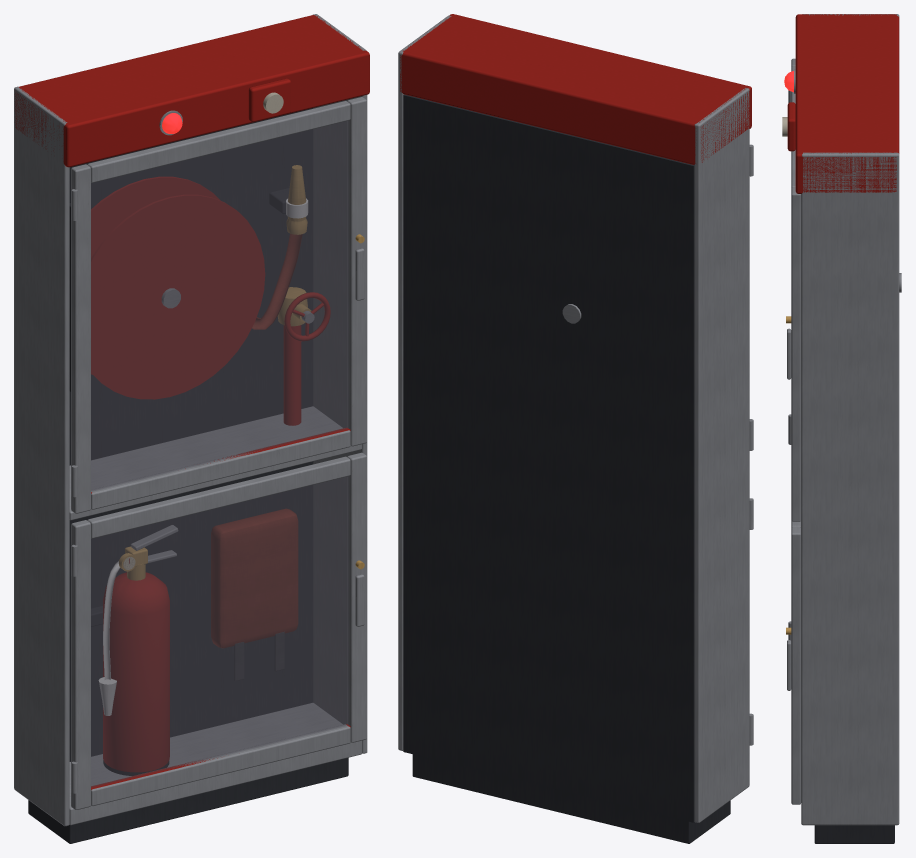
Rendered from fire_cabinet.glb.
3 renders of one model, left to right at view 1: azimuth 30°, elevation 25°; view 2: azimuth 150°, elevation 25°; view 3: azimuth 270°, elevation 25°, orthographic. The views are drawn at different scales.
Visible parts, largest first — view 1: part_cabinet_LOD0, part_pane_upper_LOD0, part_pane_lower_LOD0, part_reel_LOD0, part_door_upper_LOD0, part_door_lower_LOD0, part_extinguisher_LOD0, part_blanket_LOD0, part_alarm_LOD0, part_hose_LOD0, part_nozzle_LOD0, part_valve_LOD0; view 2: part_cabinet_LOD0; view 3: part_cabinet_LOD0, part_door_upper_LOD0, part_door_lower_LOD0, part_alarm_LOD0.
Boxes of the visible parts, <box> form: part_cabinet_LOD0: <box>14,14,369,843</box>; part_pane_upper_LOD0: <box>91,120,348,491</box>; part_pane_lower_LOD0: <box>91,476,348,787</box>; part_reel_LOD0: <box>91,176,265,399</box>; part_door_upper_LOD0: <box>71,97,366,513</box>; part_door_lower_LOD0: <box>71,452,366,809</box>; part_extinguisher_LOD0: <box>98,525,178,775</box>; part_blanket_LOD0: <box>211,508,298,680</box>; part_alarm_LOD0: <box>159,78,290,135</box>; part_hose_LOD0: <box>252,234,302,329</box>; part_nozzle_LOD0: <box>286,165,308,234</box>; part_valve_LOD0: <box>284,292,330,341</box>; part_cabinet_LOD0: <box>398,14,751,843</box>; part_cabinet_LOD0: <box>795,14,899,843</box>; part_door_upper_LOD0: <box>786,58,801,521</box>; part_door_lower_LOD0: <box>786,414,801,804</box>; part_alarm_LOD0: <box>782,69,795,151</box>.
Size of what is drawn, in the model's own units: 0.75 by 1.72 by 0.267.
13 materials, 10 textured.
